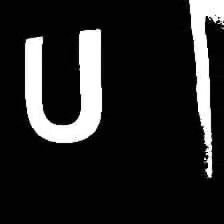LTR_U: (16, 21, 108, 147)
